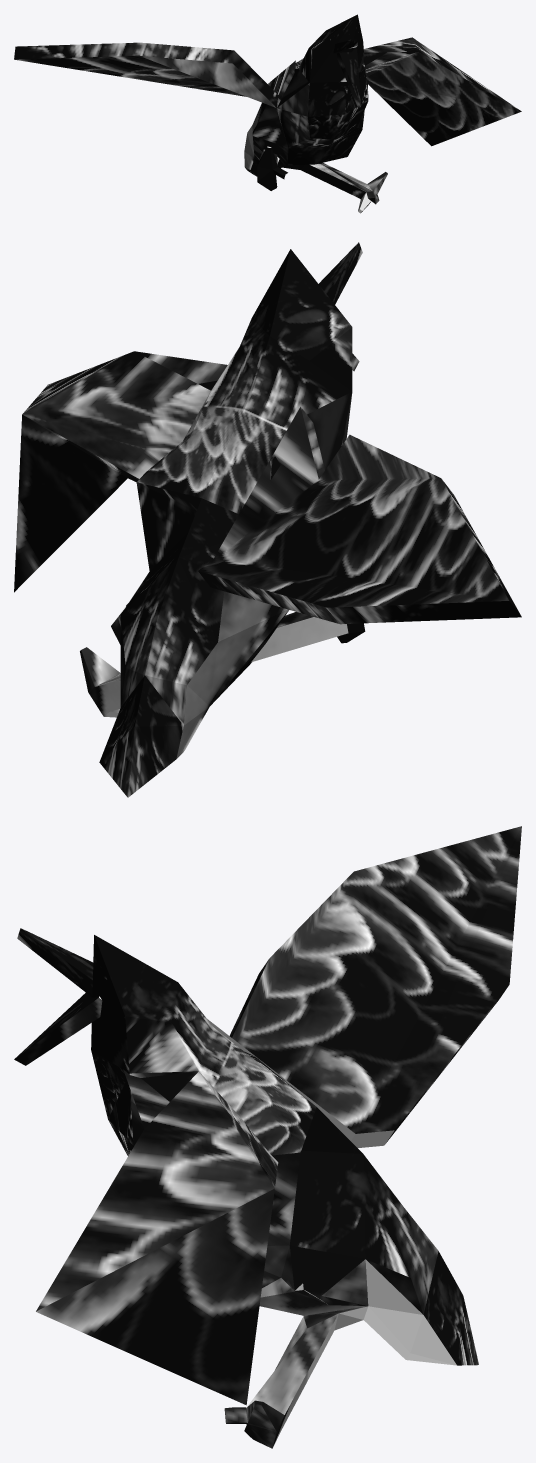
The model's file is crow2.glb.
3 renders of one model, top to bottom at view 1: azimuth 30°, elevation 25°; view 2: azimuth 150°, elevation 25°; view 3: azimuth 270°, elevation 25°, orthographic. The views are drawn at different scales.
Visible parts, largest first — view 1: Cube.001; view 2: Cube.001; view 3: Cube.001.
Boxes of the visible parts, x1=… form: Cube.001: x1=14, y1=14, x2=521, y2=213; Cube.001: x1=14, y1=242, x2=521, y2=797; Cube.001: x1=14, y1=826, x2=521, y2=1448.
Size of the model in its own units: 0.8676 by 0.5171 by 0.5135.
Materials: 1 (1 with a texture image).
